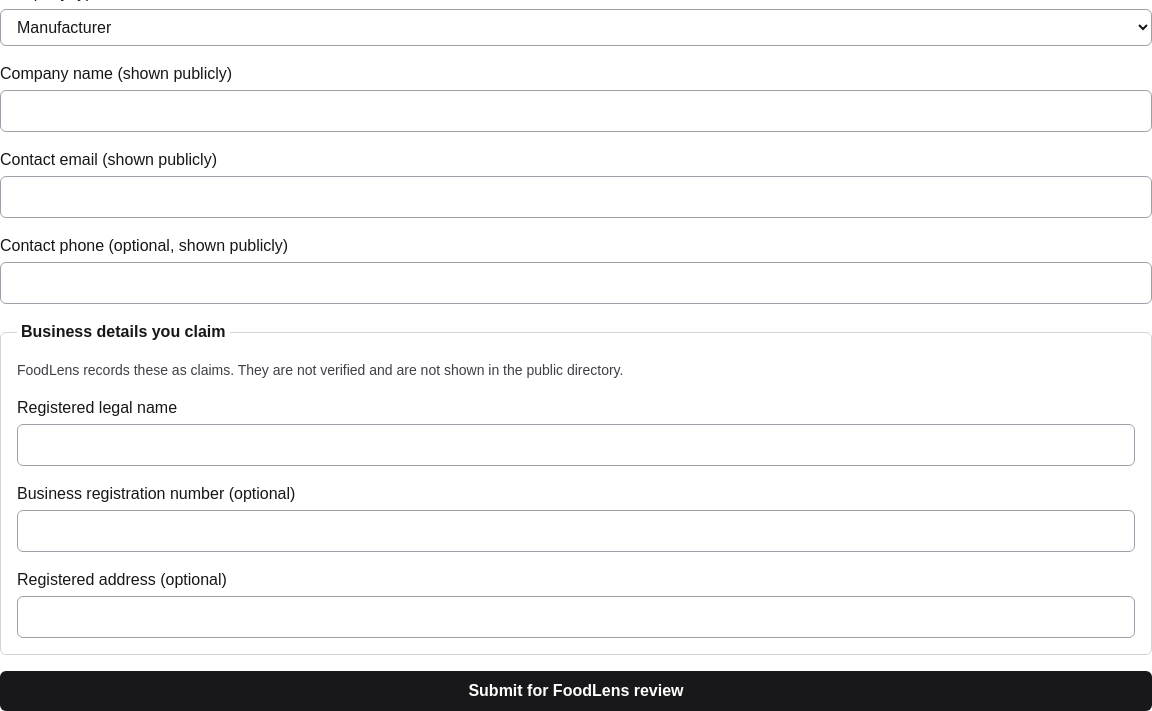
Test: CompanyRegisterForm › requires a name, email and legal name
(page scrolled)
Click the button "Submit for FoodLens review" at [576, 691], box [0,671,1151,710]
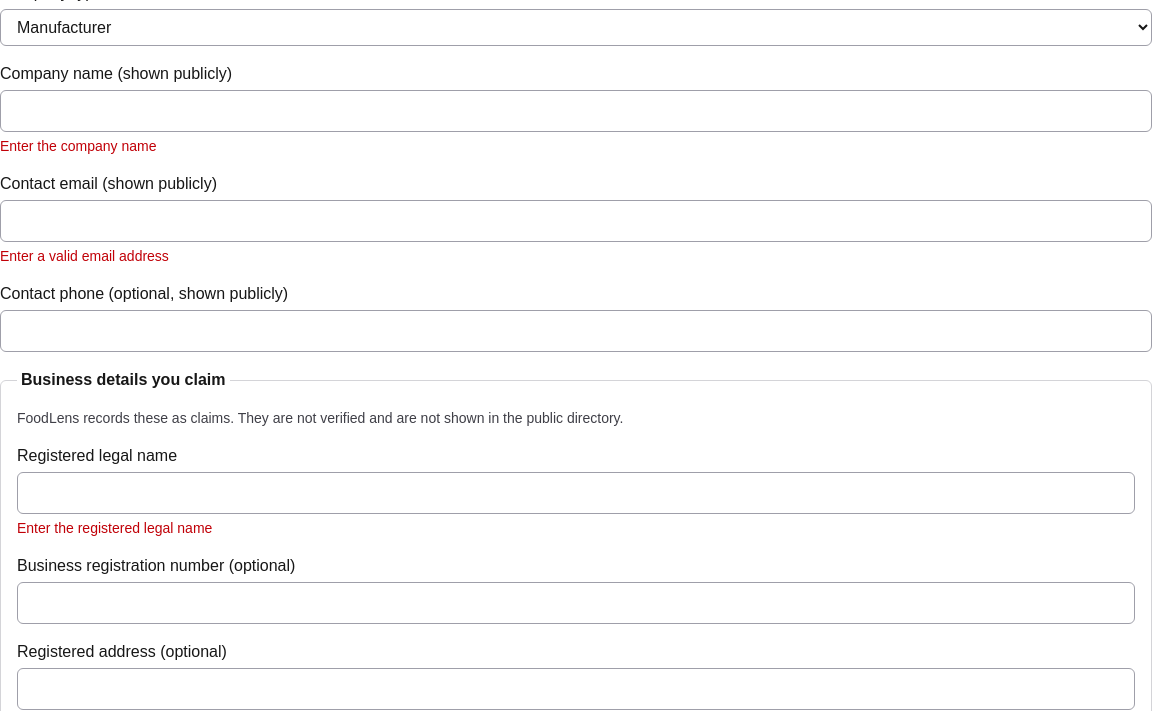
Expected: the text "Enter the company name" is shown, [0,138,156,154]
Expected: the text "Enter a valid email address" is shown, [0,248,169,264]
Expected: the text "Enter the registered legal name" is shown, [17,520,212,536]
